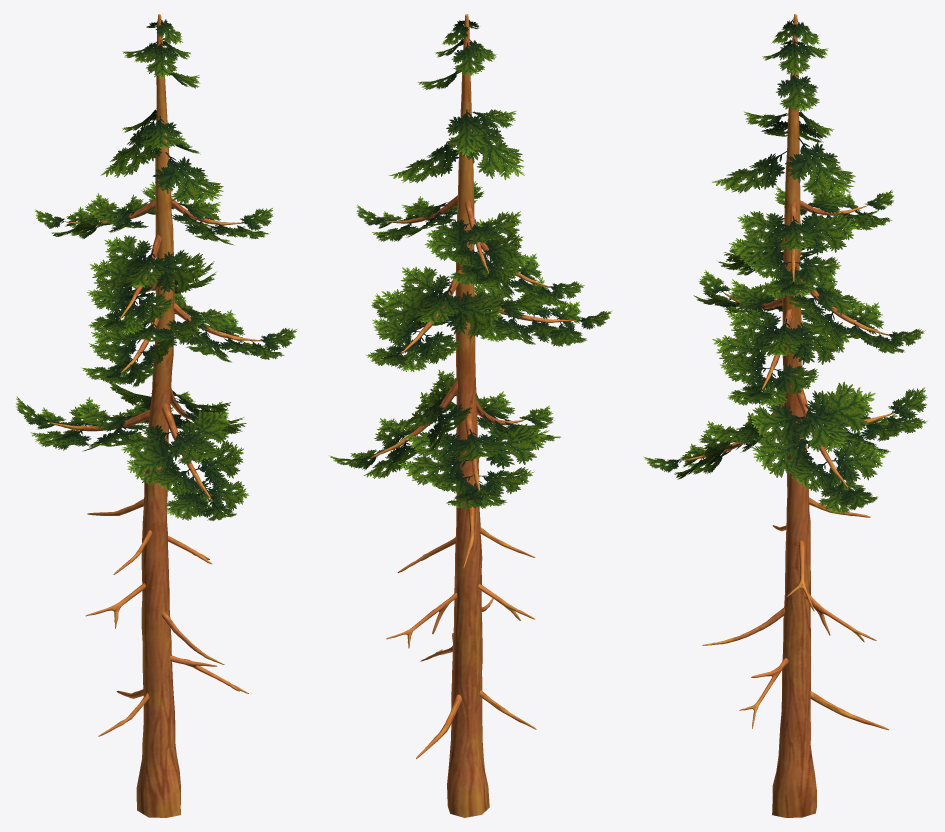
Rendered from stylized_pine_var3.glb.
3 views of the same model, side by side, from view 1: azimuth 30°, elevation 25°; view 2: azimuth 150°, elevation 25°; view 3: azimuth 270°, elevation 25° (orthographic).
Visible parts, largest first — view 1: stylized_pine_var3; view 2: stylized_pine_var3; view 3: stylized_pine_var3.
Part boxes in pixels (bbox=[...]): stylized_pine_var3: bbox=[16, 14, 296, 817]; stylized_pine_var3: bbox=[329, 14, 612, 817]; stylized_pine_var3: bbox=[643, 14, 927, 817].
Size of the model in its own units: 413 by 1433 by 471.
Materials: 2 (2 with a texture image).
